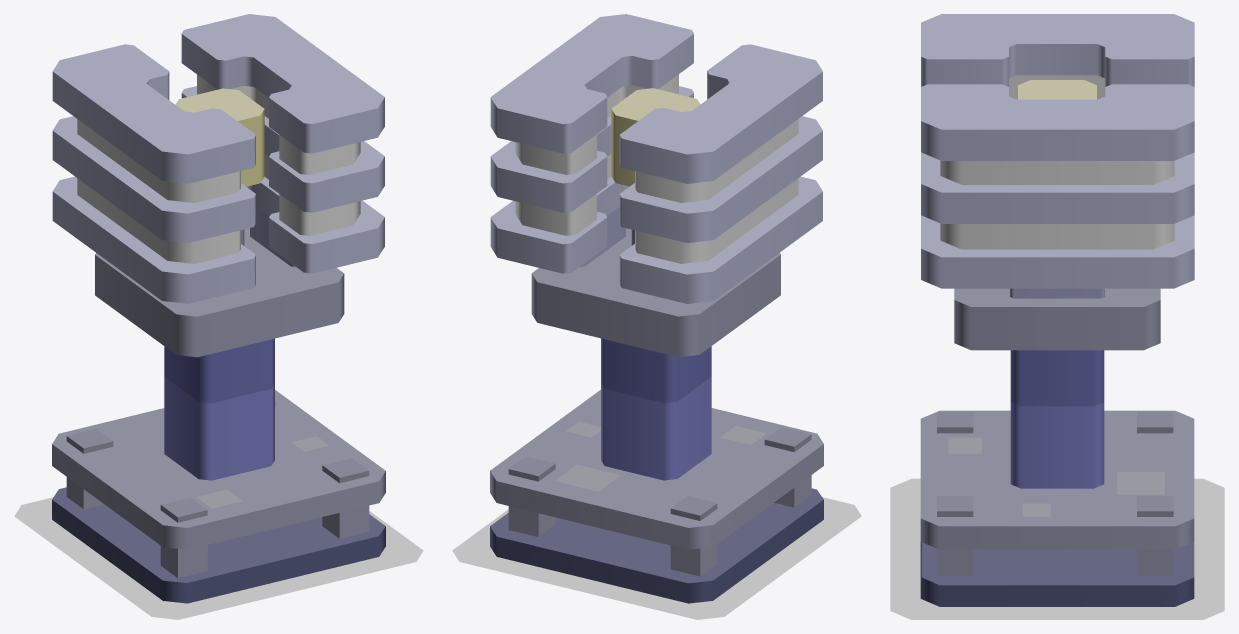
The model's file is MG_special_thunder_01.fbx.
3 views of the same model, side by side, from view 1: azimuth 30°, elevation 25°; view 2: azimuth 150°, elevation 25°; view 3: azimuth 270°, elevation 25° (orthographic). The views are drawn at different scales.
Visible parts, largest first — view 1: polySurface4, polySurface6, ground, polySurface5; view 2: polySurface4, polySurface6, ground, polySurface5; view 3: polySurface4, polySurface6, ground, polySurface5.
Boxes of the visible parts, x1=… form: polySurface4: x1=52, y1=14, x2=385, y2=603; polySurface6: x1=77, y1=74, x2=360, y2=263; ground: x1=14, y1=497, x2=423, y2=619; polySurface5: x1=175, y1=88, x2=264, y2=186; polySurface4: x1=490, y1=14, x2=823, y2=603; polySurface6: x1=515, y1=74, x2=798, y2=263; ground: x1=452, y1=497, x2=861, y2=619; polySurface5: x1=611, y1=88, x2=700, y2=186; polySurface4: x1=920, y1=14, x2=1194, y2=606; polySurface6: x1=940, y1=75, x2=1174, y2=249; ground: x1=890, y1=478, x2=1224, y2=619; polySurface5: x1=1018, y1=80, x2=1096, y2=99.
Bounding box in the file's own units: 3.66 × 5.77 × 3.66.
